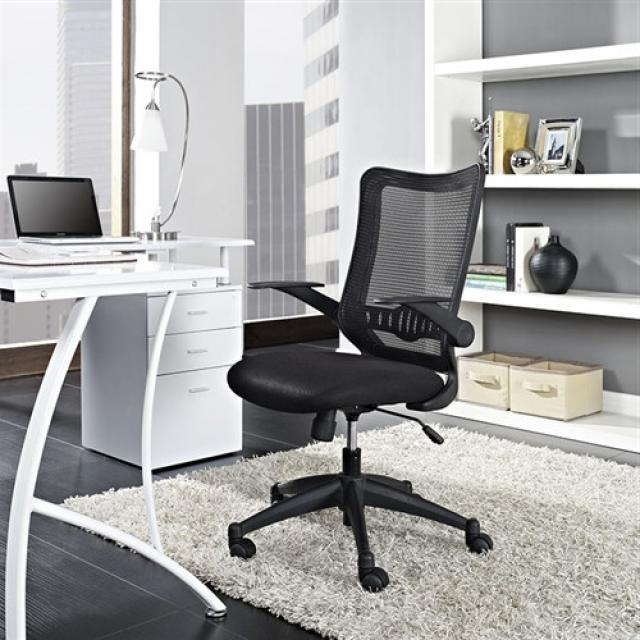chair: (205, 157, 523, 593)
